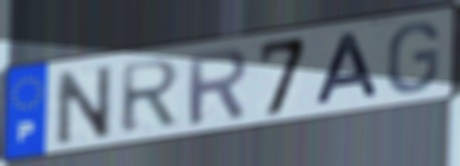7: (256, 35, 308, 119)
A: (312, 30, 382, 109)
G: (384, 19, 443, 96)
N: (53, 61, 115, 149)
R: (184, 45, 251, 129), (118, 57, 184, 137)
